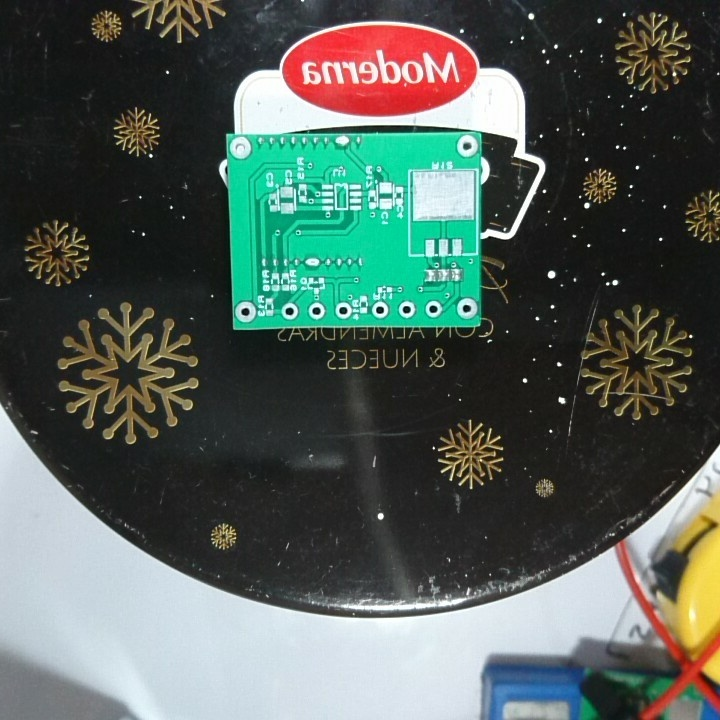F: (227, 135, 253, 161), (233, 300, 258, 326), (454, 296, 479, 322), (454, 133, 479, 158), (396, 298, 418, 321), (279, 300, 300, 323), (305, 300, 328, 320), (424, 298, 444, 320), (370, 300, 390, 321), (333, 301, 353, 320)
P: (302, 255, 321, 271), (333, 133, 351, 149)
